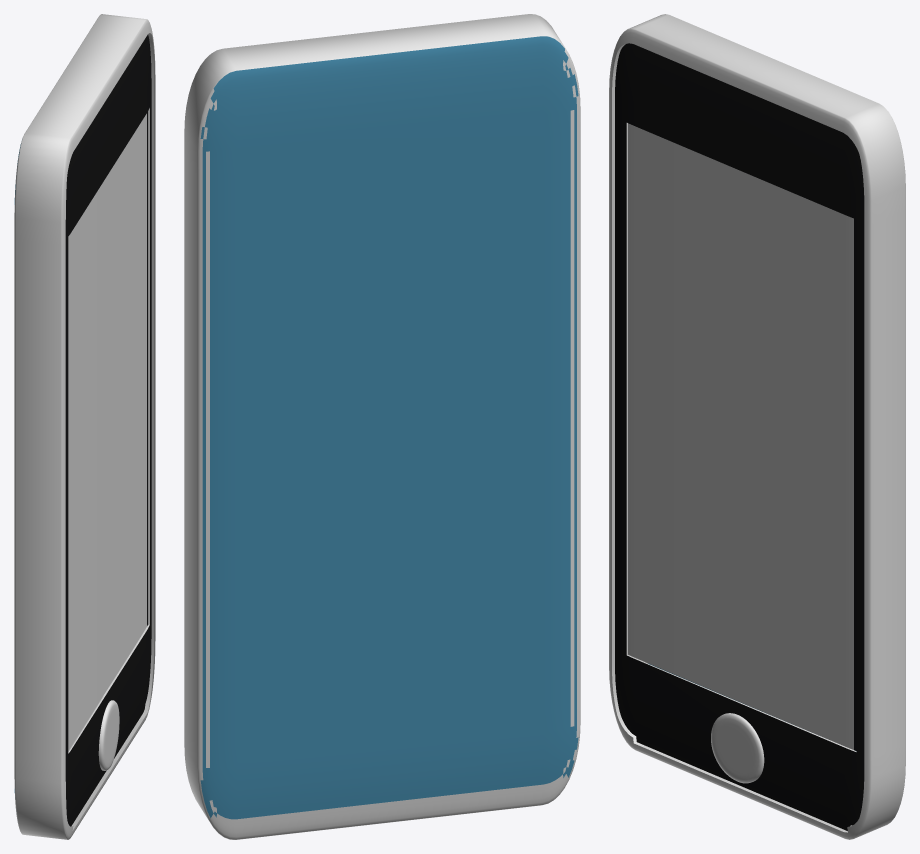
File: Iphone 5cAmended.fbx
The picture shows the model from 3 angles, left to right: view 1: azimuth 30°, elevation 25°; view 2: azimuth 150°, elevation 25°; view 3: azimuth 270°, elevation 25°; orthographic projection. The views are drawn at different scales.
Parts seen in each view (by area): view 1: Cube, Cube.002, Cube.001, Cylinder; view 2: Cube.003, Cube; view 3: Cube.002, Cube.001, Cube, Cylinder.
Part boxes in pixels (left/top/right/bottom): Cube: left=14, top=14, right=155, bottom=839; Cube.002: left=68, top=108, right=149, bottom=753; Cube.001: left=65, top=34, right=151, bottom=826; Cylinder: left=98, top=700, right=119, bottom=770; Cube.003: left=200, top=36, right=578, bottom=819; Cube: left=184, top=14, right=580, bottom=839; Cube.002: left=626, top=123, right=856, bottom=751; Cube.001: left=615, top=43, right=864, bottom=830; Cube: left=609, top=14, right=905, bottom=839; Cylinder: left=711, top=713, right=764, bottom=783.
Bounding box in the file's own units: 317 × 851 × 317.
